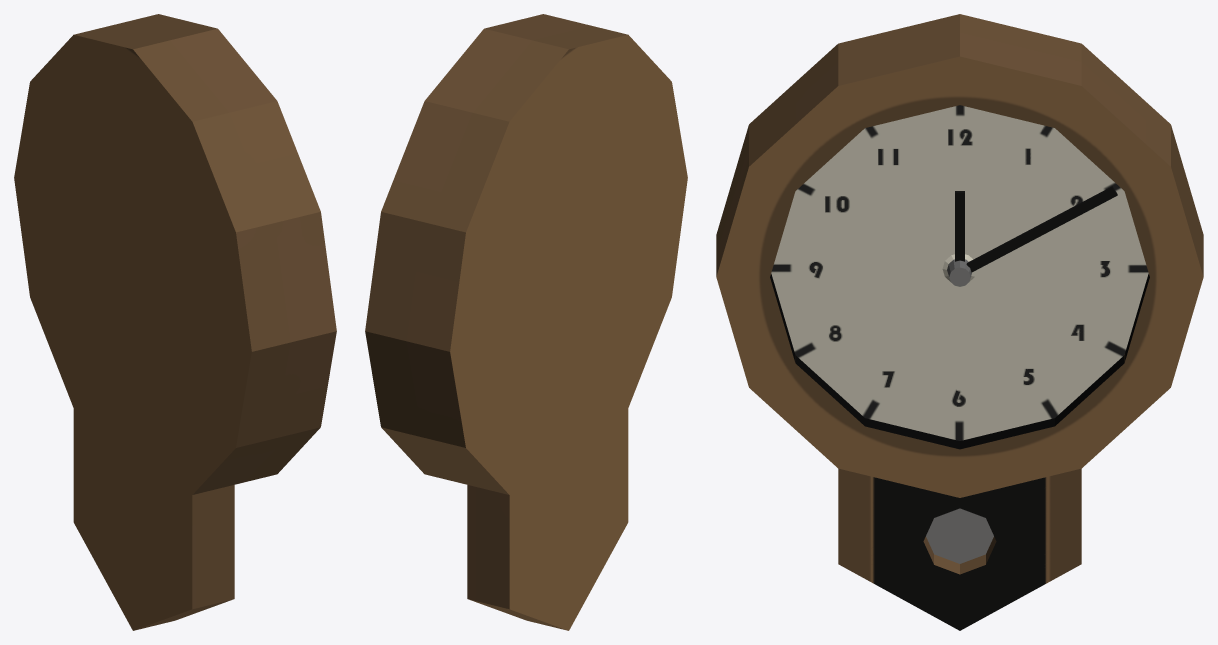
The model's file is TimeClock.fbx.
3 renders of one model, left to right at view 1: azimuth 30°, elevation 25°; view 2: azimuth 150°, elevation 25°; view 3: azimuth 270°, elevation 25°, orthographic. The views are drawn at different scales.
Parts seen in each view (by area): view 1: TimeClock; view 2: TimeClock; view 3: TimeClock, MinuteHand, hourHand.
Part boxes in pixels (x1=…): TimeClock: x1=14, y1=14, x2=336, y2=630; TimeClock: x1=365, y1=14, x2=687, y2=630; TimeClock: x1=716, y1=14, x2=1203, y2=630; MinuteHand: x1=966, y1=186, x2=1117, y2=272; hourHand: x1=955, y1=191, x2=964, y2=261.
Bounding box in the file's own units: 0.9904 × 6.48 × 4.8.
